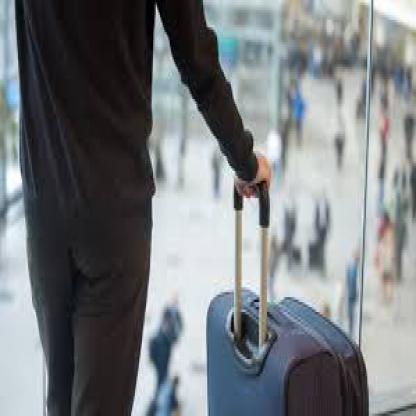maleta: (197, 268, 372, 414)
